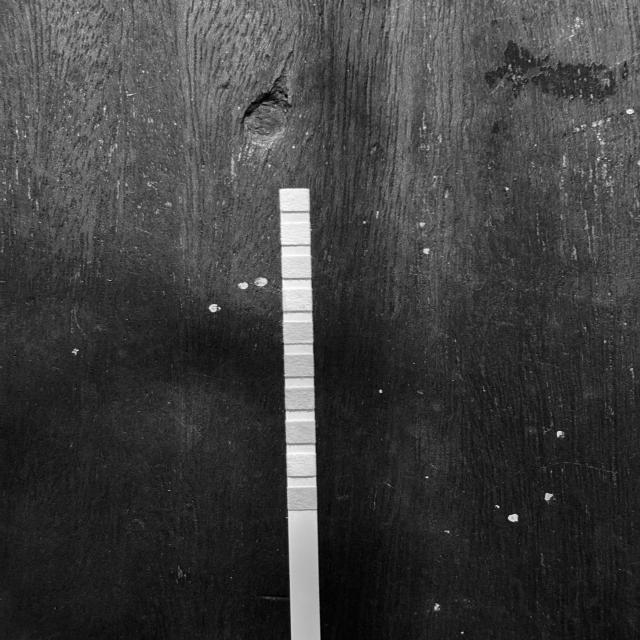Bilirubin: (288, 454, 315, 476)
Blood: (285, 355, 313, 376)
Glucose: (289, 488, 316, 508)
Ketone: (287, 421, 315, 442)
Leukocytes: (280, 189, 310, 210)
Nitrite: (282, 223, 310, 245)
Protein: (284, 289, 312, 310)
SpGravity: (286, 388, 314, 408)
Urobilinogen: (282, 257, 310, 277)
background: (0, 0, 640, 640)
pH: (284, 322, 312, 343)
strip: (280, 189, 320, 622)
